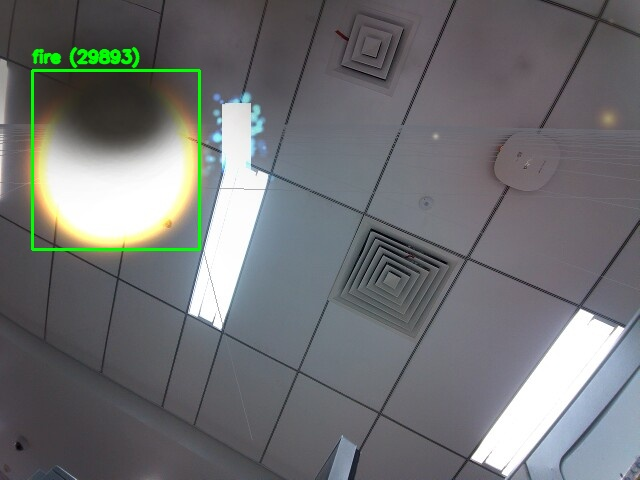fire: (32, 70, 199, 249)
